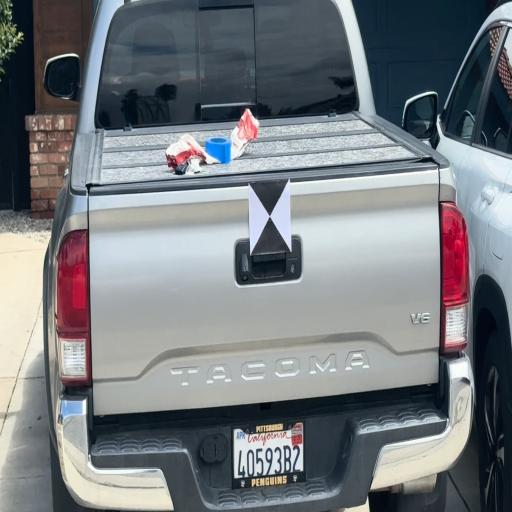target: (248, 182, 292, 251)
